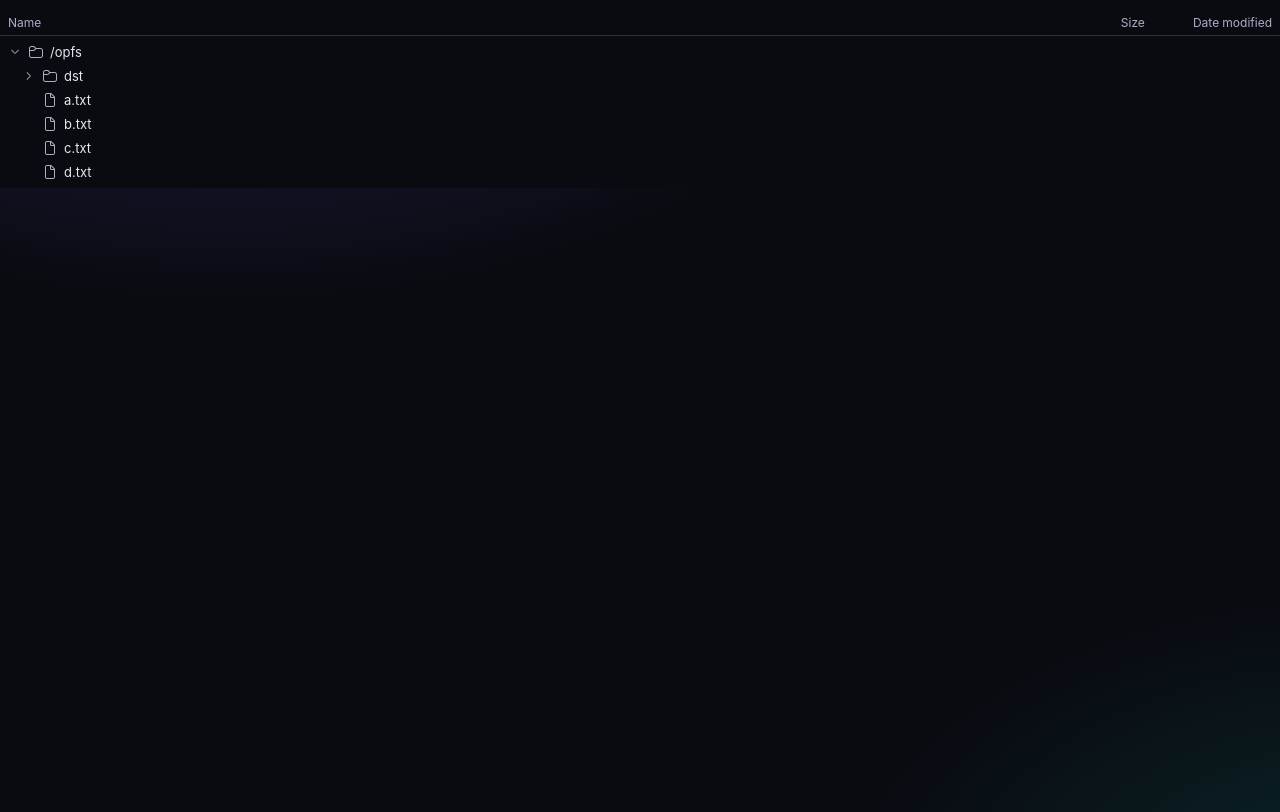
FilesystemView — multi-select › Enter and → open the /opfs root again after Enter closed it (S1018-73)
This screenshot has width=1280, height=812.
Click the list item with class "tree-row" showing "dst" at (53,76), box [23,68,83,84]
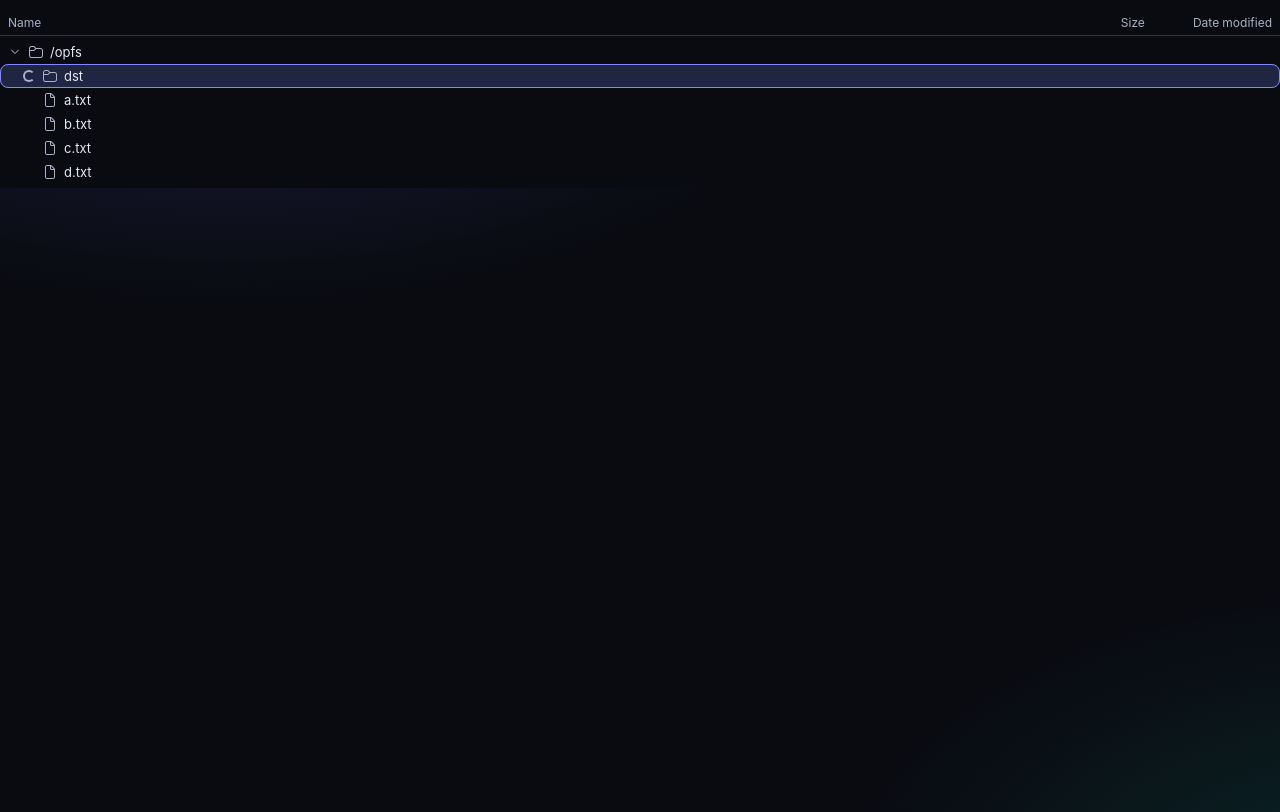
Press ArrowUp in the list item with class "tree-row" showing "dst", box [0,64,1279,88]
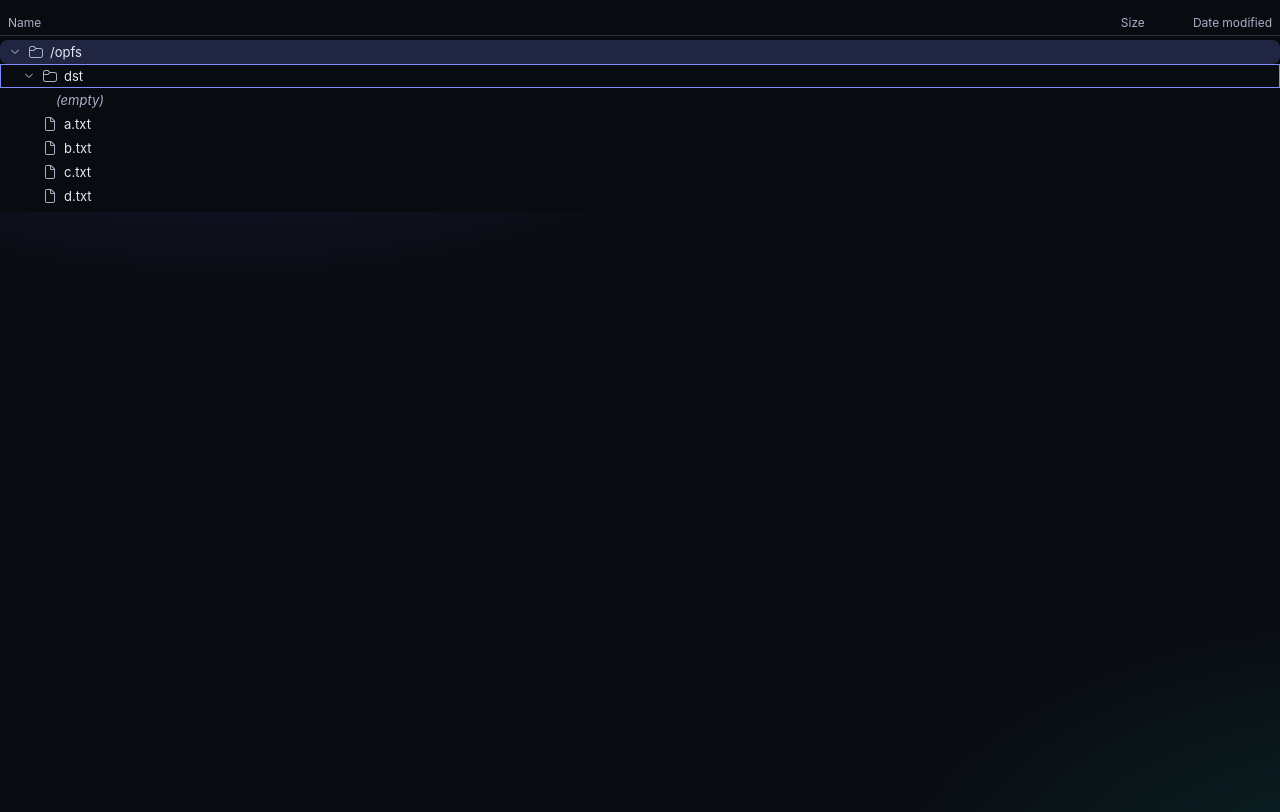
Press Enter in the list item with class "tree-row" showing "dst", box [23,68,83,84]
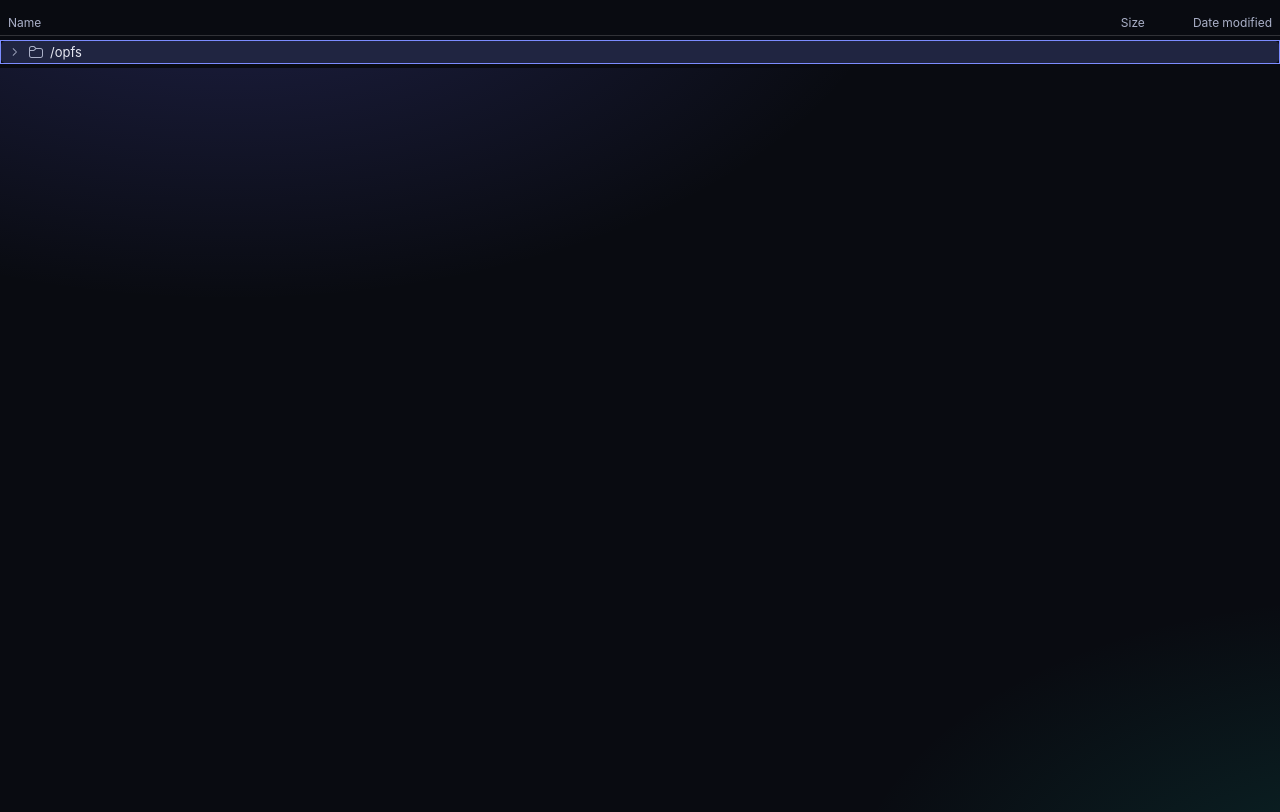
expect the list item with class "tree-row" is collapsed: met
Press Enter in the list, box [0,40,1279,64]
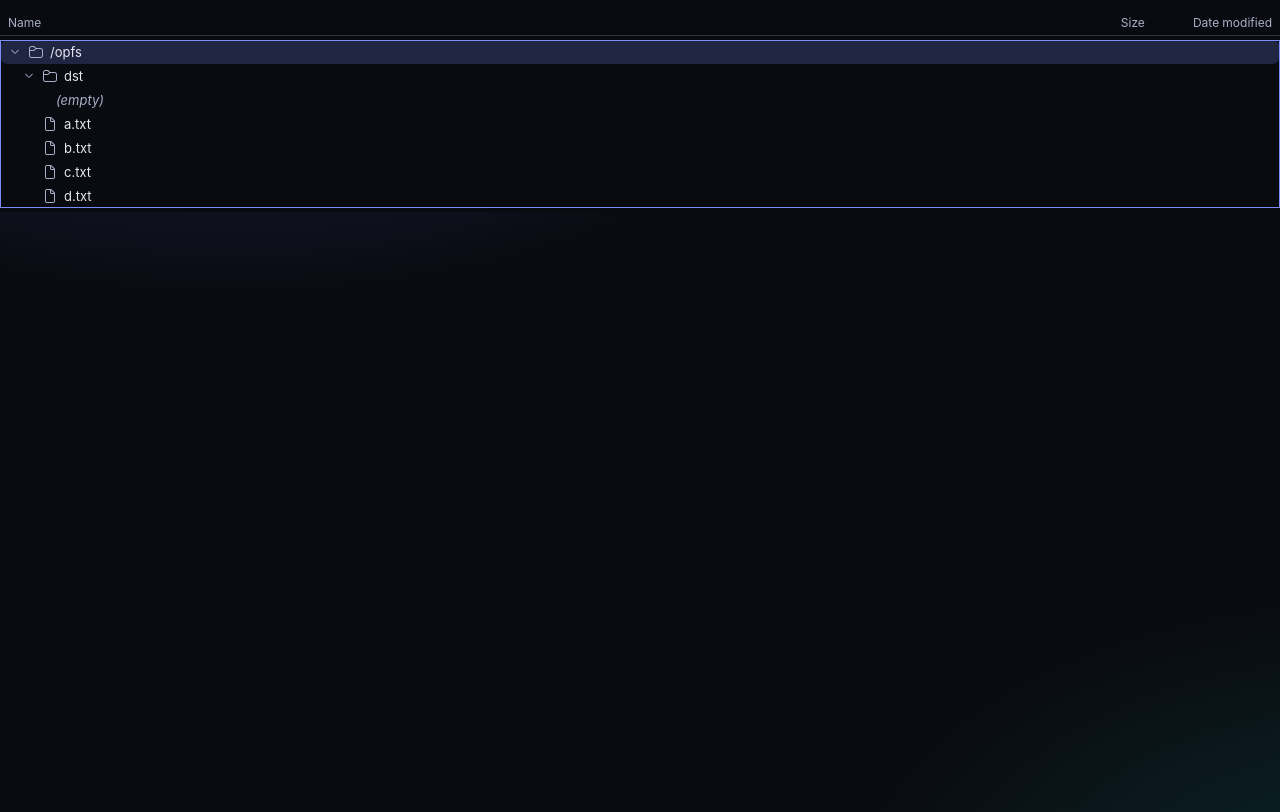
expect the list item with class "tree-row" is expanded: met, box [0,40,1279,64]
Press ArrowLeft in the list, box [0,40,1279,208]
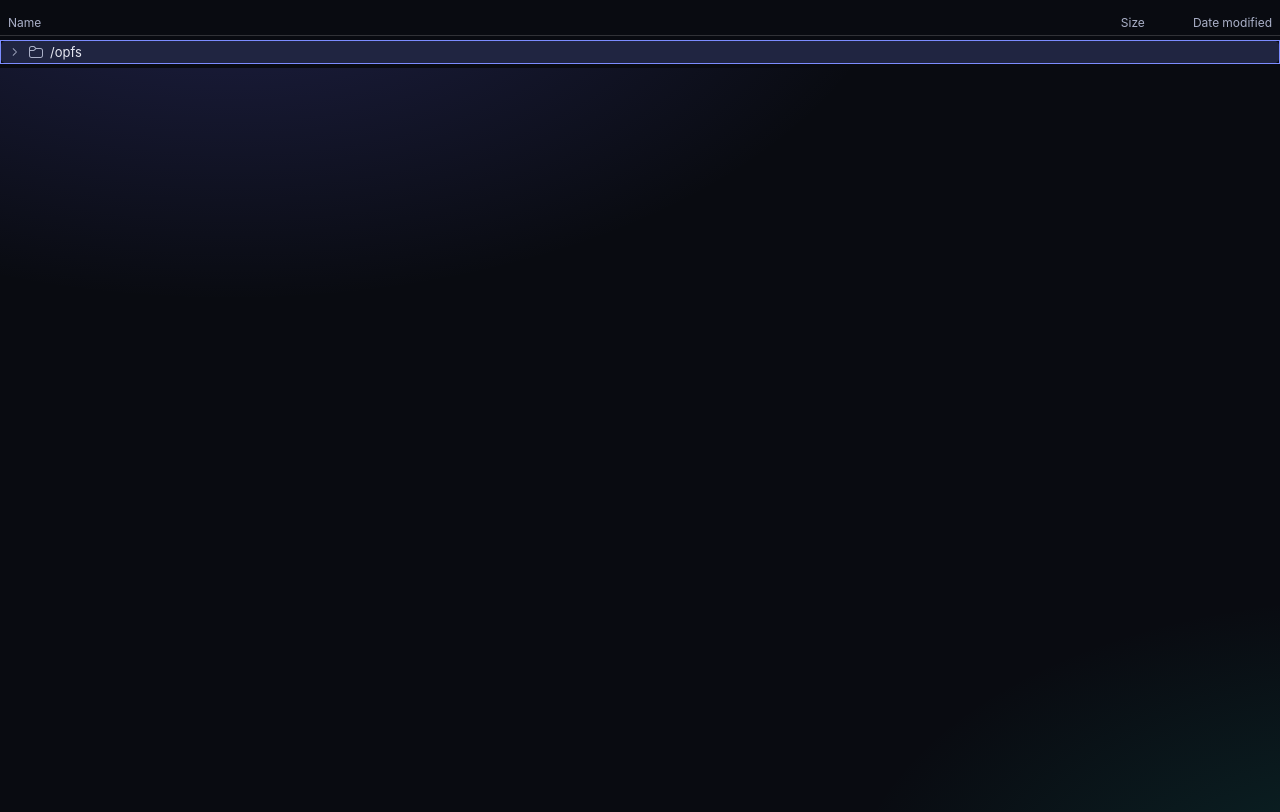
expect the list item with class "tree-row" is collapsed: met
Press ArrowRight in the list, box [0,40,1279,64]
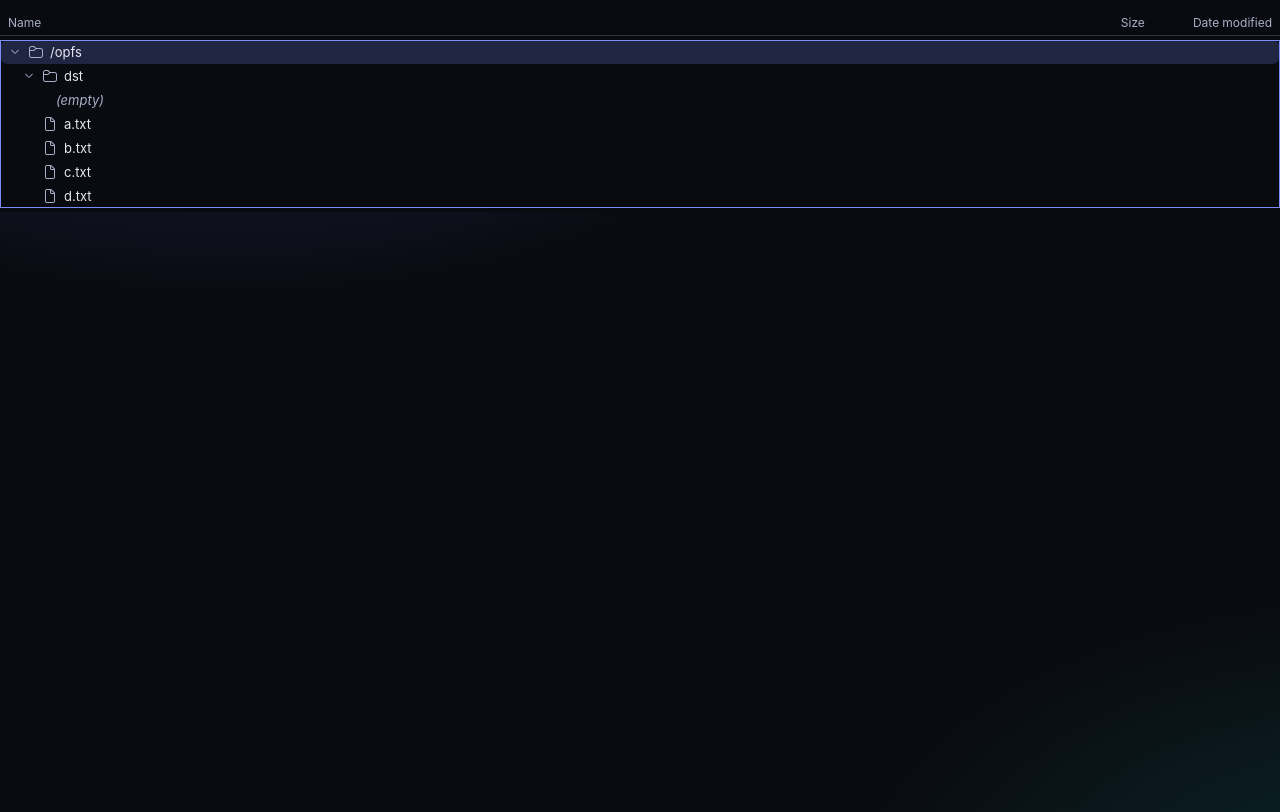
expect the list item with class "tree-row" is expanded: met, box [0,40,1279,64]
expect the text "a.txt" is shown: met, box [64,116,91,132]
